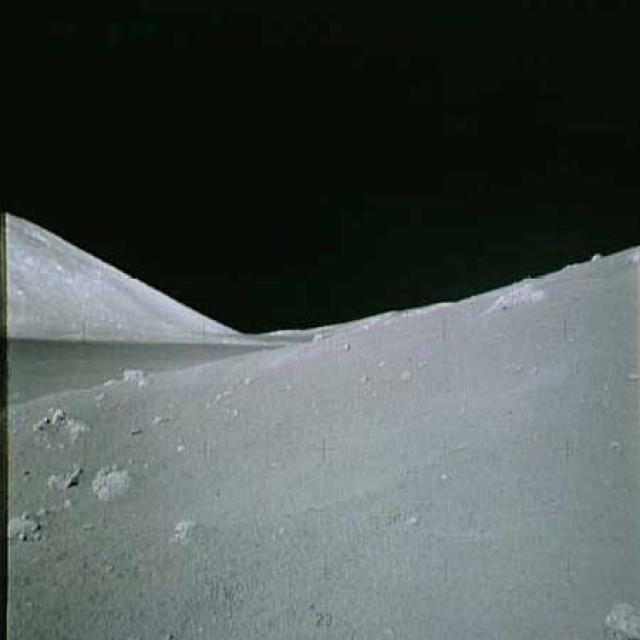rock: (592, 593, 638, 639), (484, 279, 544, 312), (44, 460, 84, 492), (116, 364, 153, 386)
